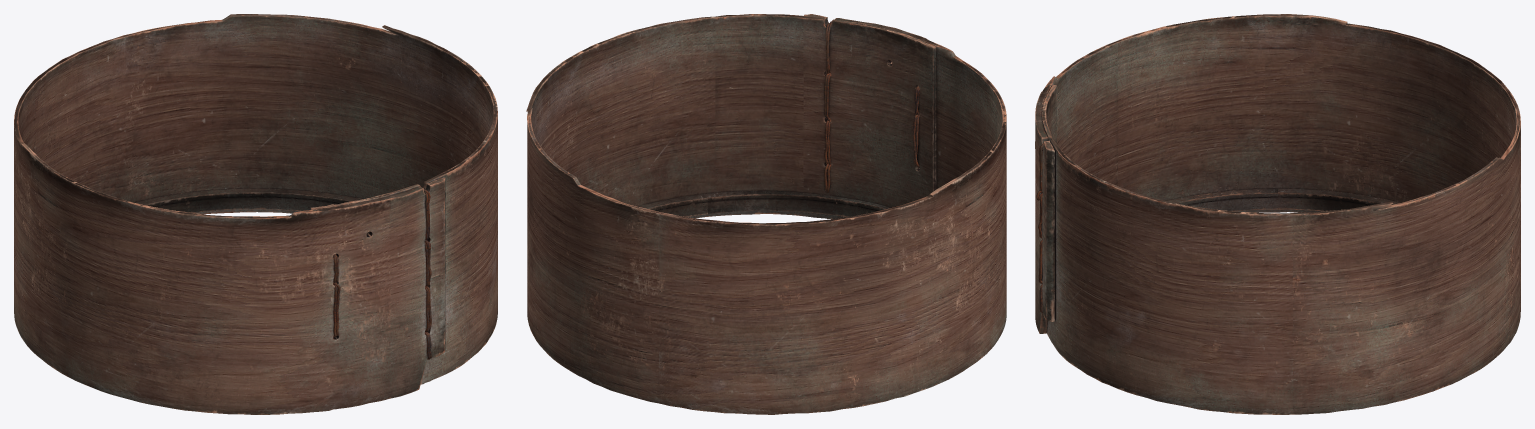
The model's file is SM_Sieve397.fbx.
The picture shows the model from 3 angles, left to right: view 1: azimuth 30°, elevation 25°; view 2: azimuth 150°, elevation 25°; view 3: azimuth 270°, elevation 25°; orthographic projection.
Visible parts, largest first — view 1: SM_Sieve397; view 2: SM_Sieve397; view 3: SM_Sieve397.
Boxes of the visible parts, box(x1,y1,x2,y2) form: SM_Sieve397: box(14, 14, 497, 414); SM_Sieve397: box(526, 14, 1006, 414); SM_Sieve397: box(1035, 14, 1520, 414).
Size of the model in its own units: 28.46 by 13.11 by 28.59.
1 material, 1 textured.
